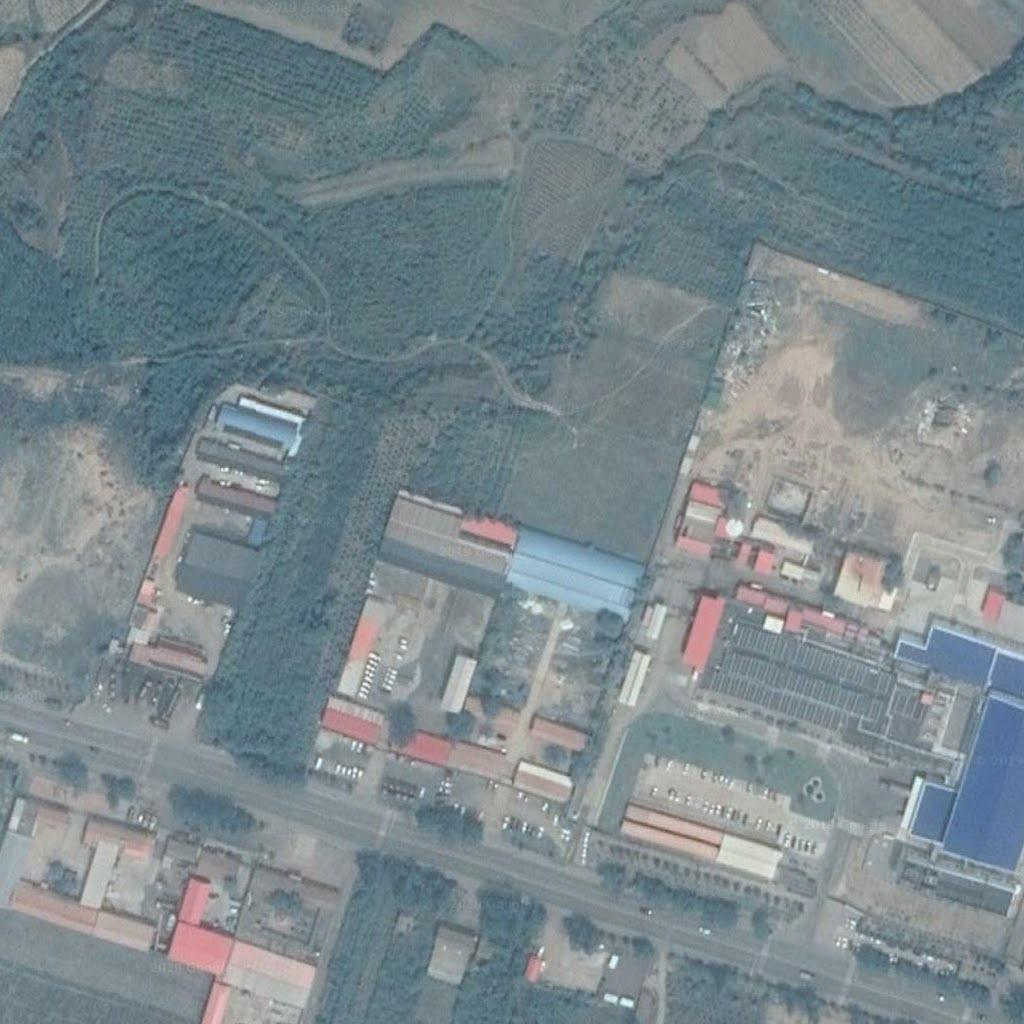agriculture forestry: (714, 278, 783, 394)
